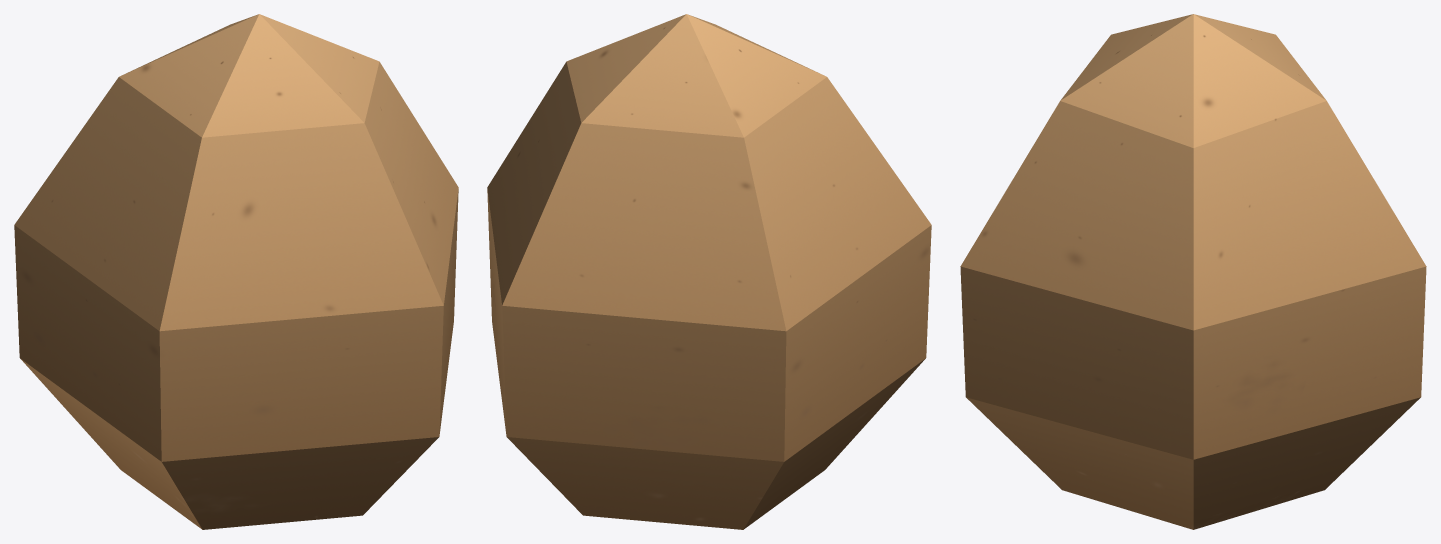
The model's file is dinoegg.fbx.
3 renders of one model, left to right at view 1: azimuth 30°, elevation 25°; view 2: azimuth 150°, elevation 25°; view 3: azimuth 270°, elevation 25°, orthographic.
Parts seen in each view (by area): view 1: DinoEgg; view 2: DinoEgg; view 3: DinoEgg.
Boxes of the visible parts, left/top/right/bottom form: DinoEgg: left=14, top=14, right=458, bottom=529; DinoEgg: left=487, top=14, right=931, bottom=529; DinoEgg: left=960, top=14, right=1426, bottom=529.
Bounding box in the file's own units: 0.8478 × 1.1 × 0.9286.
